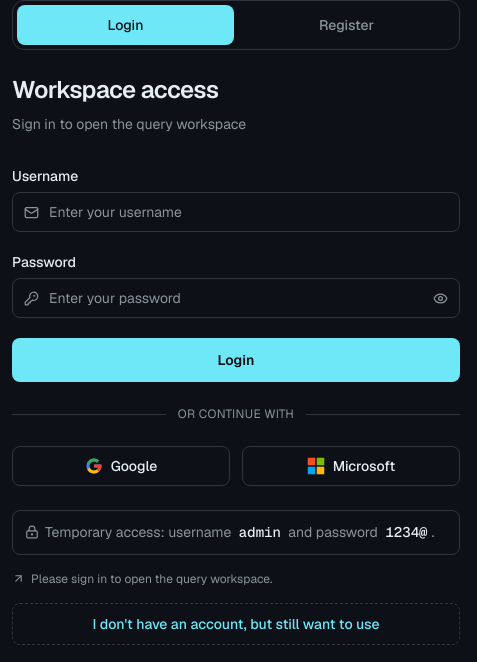
Test: SignInPanel (specs/006-login-ui-redesign T016 regression guard) › keeps the login form fields labelled and switches to the register panel on tab click
Expected: the field labelled "Username" is shown, [12,192,460,232]
Expected: the password field labelled "Password" is shown, [12,278,460,318]
Click the tab "Register". click: (346, 25)
box: [238,5,455,45]
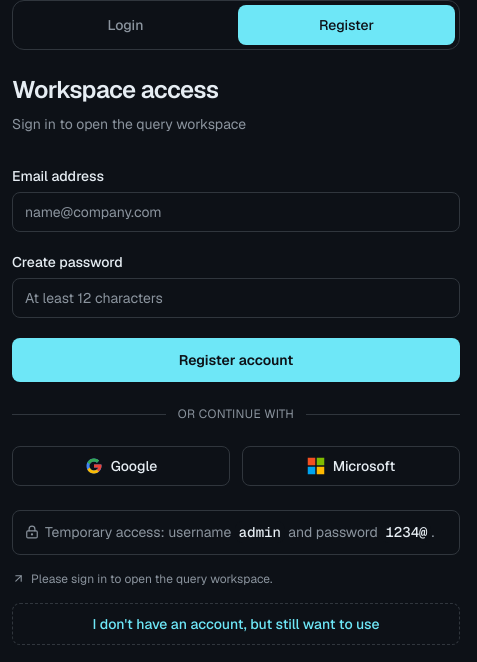
Result: the field labelled "Email address" is shown at [12,192,460,232]
Result: the password field labelled "Create password" is shown at [12,278,460,318]
